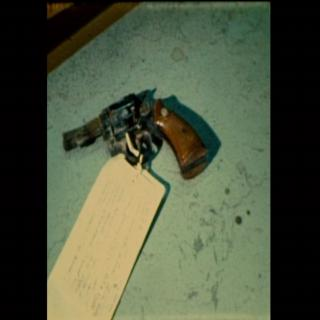gun: (63, 87, 210, 178)
